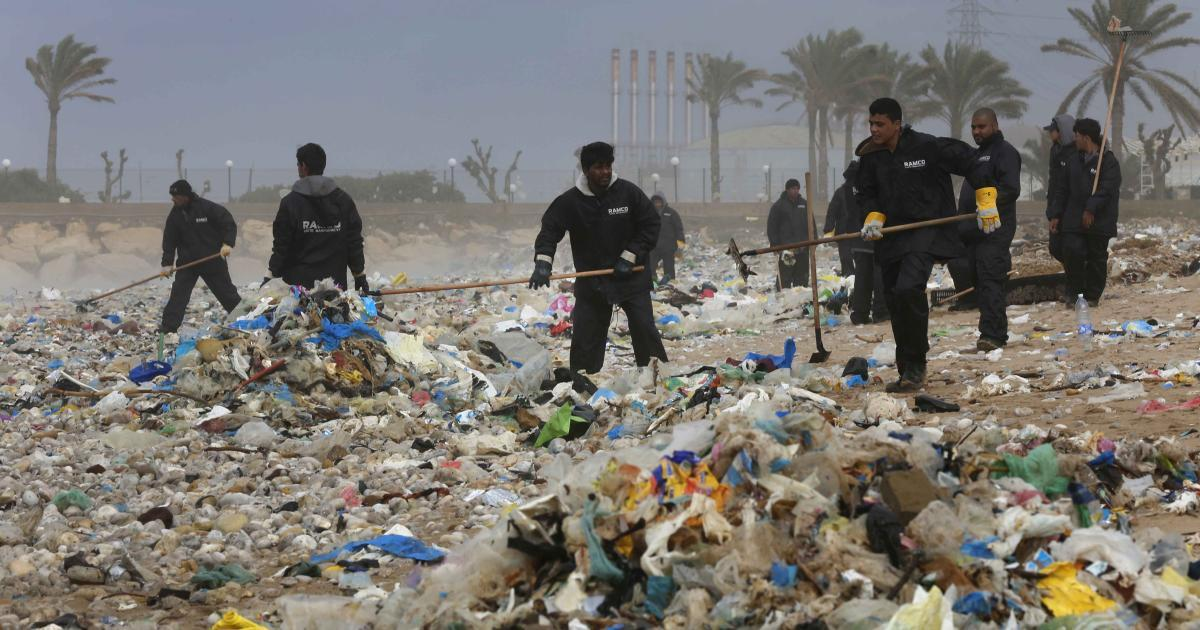garbage: (0, 346, 1200, 630)
